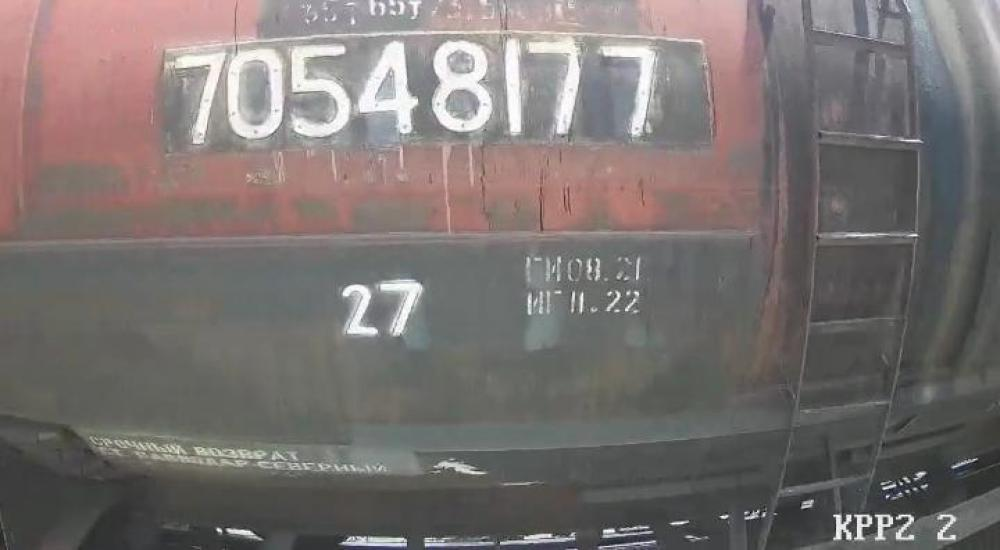Wagon-number: (174, 38, 668, 140)
